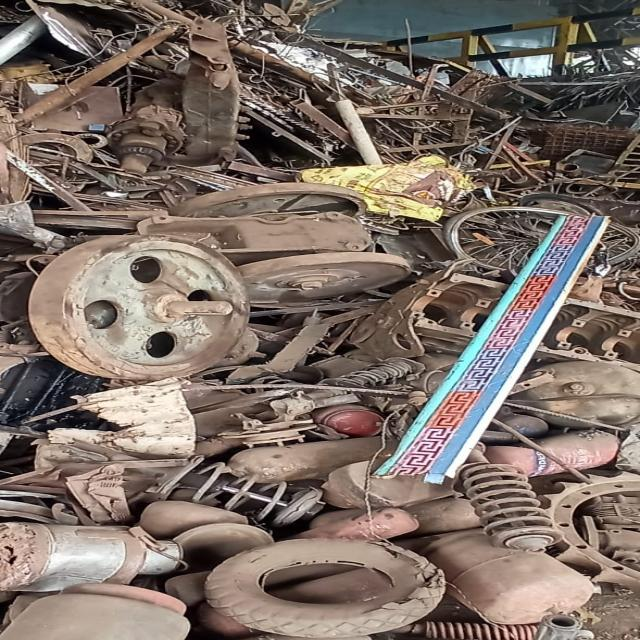Canisters: (0, 522, 182, 591)
Cylinder: (394, 529, 592, 624), (0, 584, 190, 640), (508, 361, 638, 426), (228, 436, 380, 483), (266, 568, 391, 604), (291, 508, 418, 541), (266, 572, 391, 603), (538, 430, 619, 470), (484, 446, 565, 477), (310, 404, 383, 438), (212, 329, 263, 368), (201, 606, 250, 634)
Shock-Absorbers: (168, 462, 326, 528), (459, 462, 562, 551), (321, 358, 424, 387), (410, 621, 538, 640)
